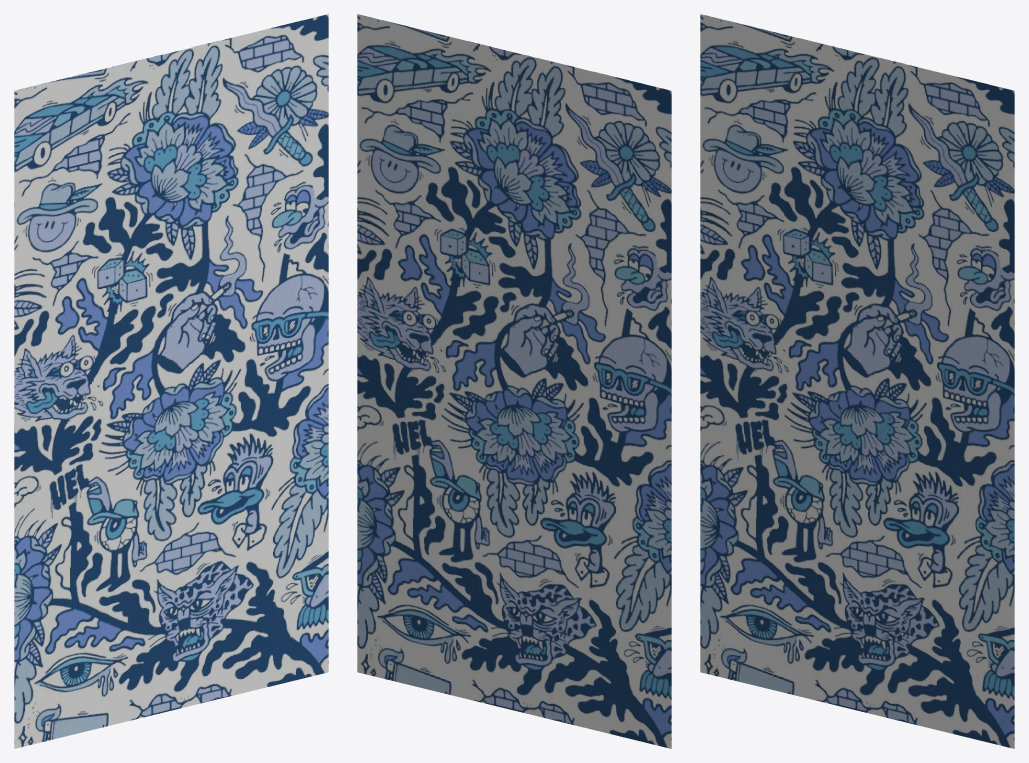
Rendered from Porcelain_fracture.glb.
3 renders of one model, left to right at view 1: azimuth 30°, elevation 25°; view 2: azimuth 150°, elevation 25°; view 3: azimuth 330°, elevation 25°, orthographic.
Parts seen in each view (by area): view 1: fracture; view 2: fracture; view 3: fracture.
Part boxes in pixels (box(x1,y1,x2,y2)): fracture: box(14, 14, 328, 748); fracture: box(357, 14, 671, 748); fracture: box(700, 14, 1014, 748).
Bounding box in the file's own units: 100 × 200 × 0.1241.
1 material, 1 textured.
